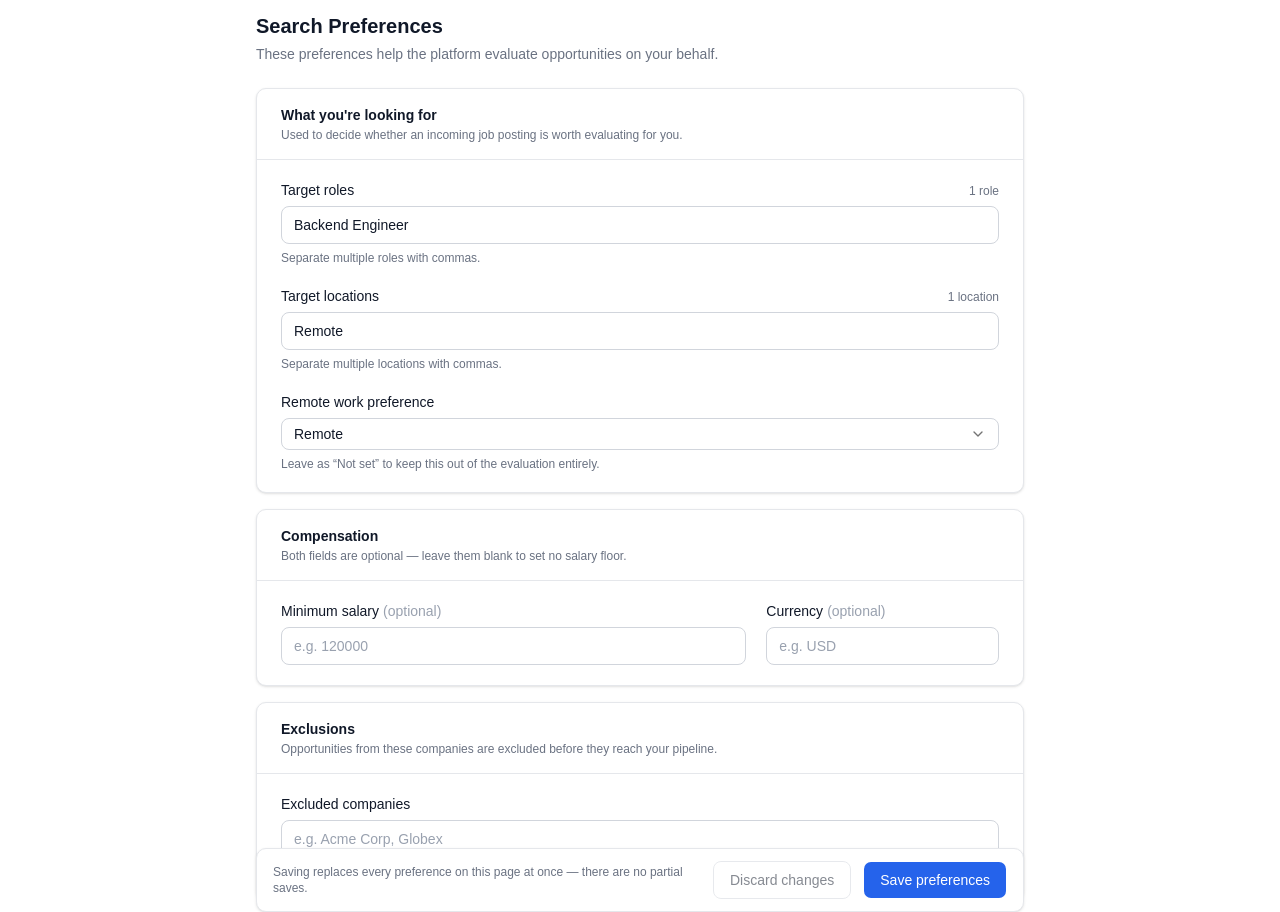
Test: SettingsPage › saves successfully and shows a success toast
Expected: the field labelled "Target roles" holds "Backend Engineer", [281, 206, 999, 244]
Click the button "Save preferences".
click(935, 880)  # box [863, 861, 1007, 899]
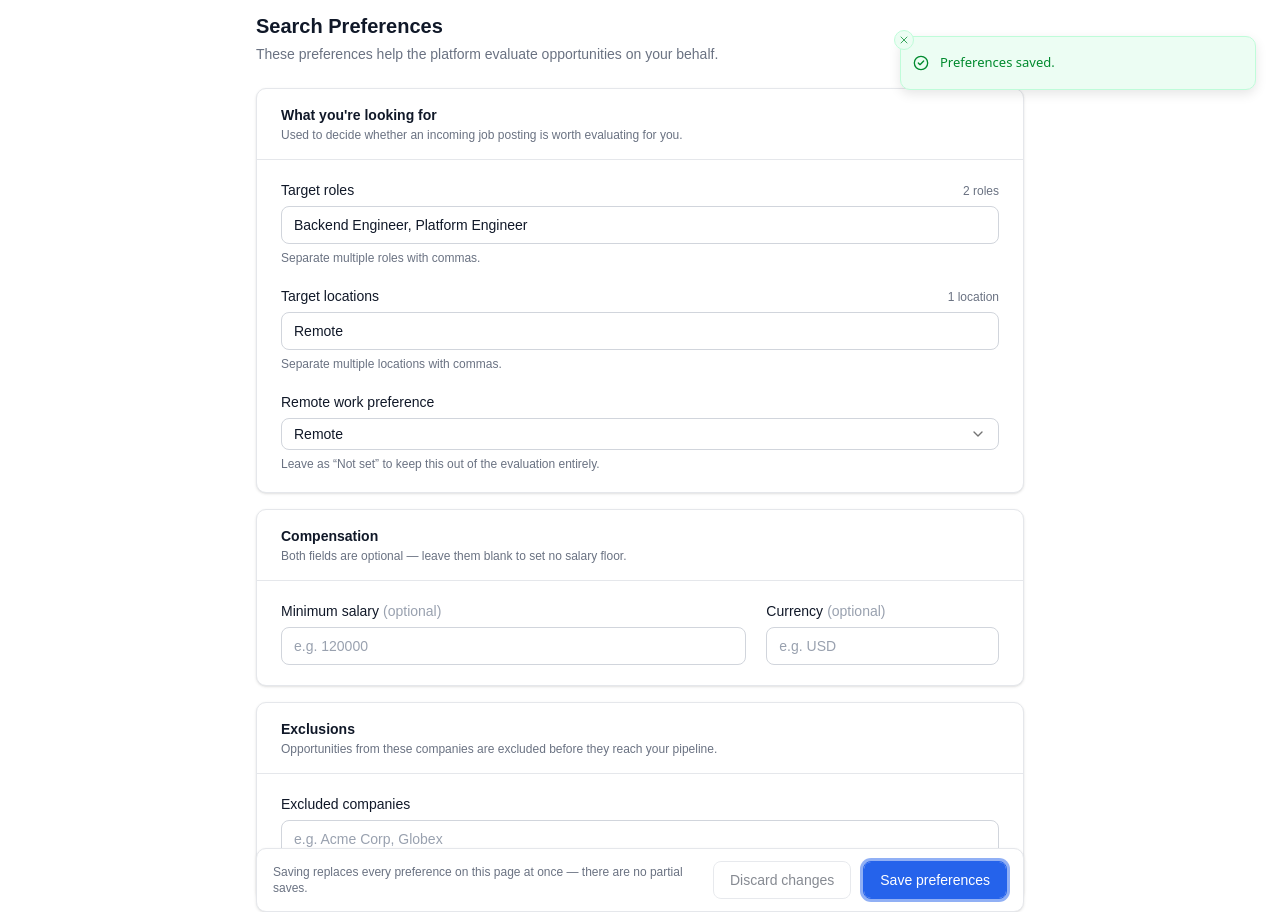
Expected: the text "Preferences saved." is shown, [940, 53, 1055, 72]
